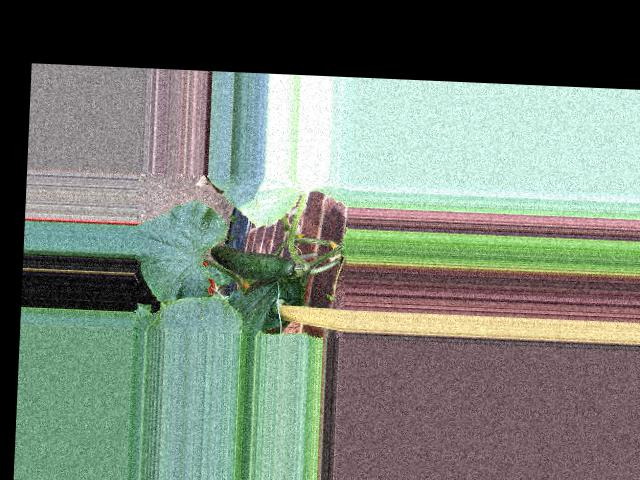cucumber: (209, 244, 297, 281)
